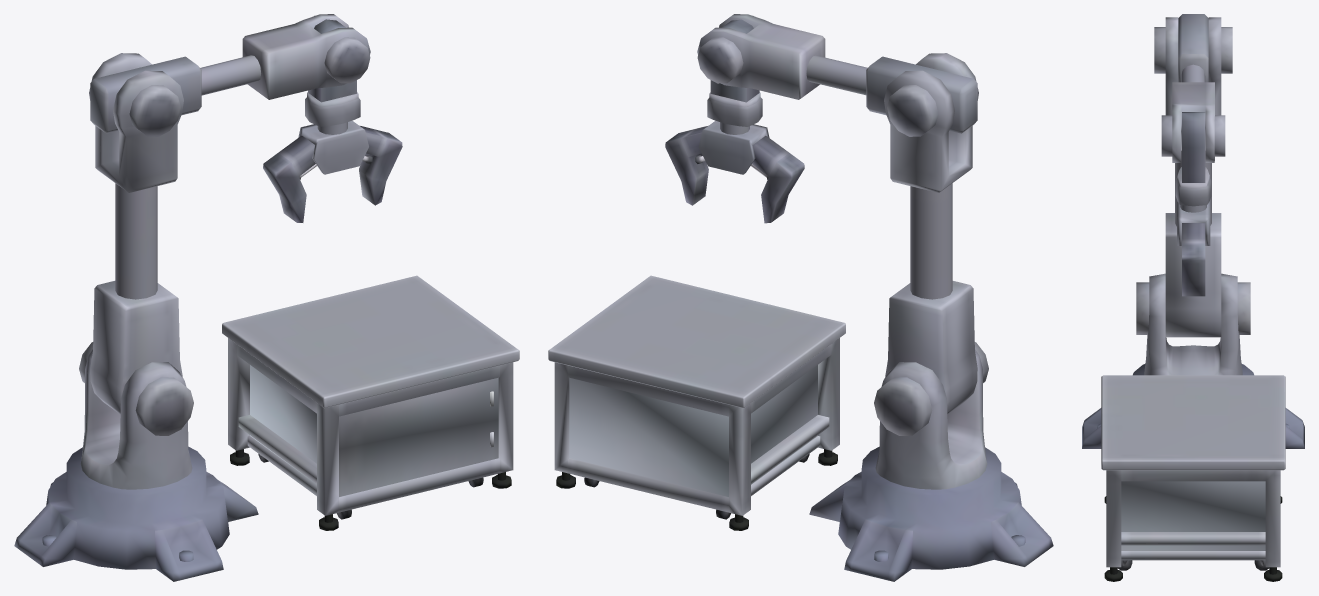
3 views of the same model, side by side, from view 1: azimuth 30°, elevation 25°; view 2: azimuth 150°, elevation 25°; view 3: azimuth 270°, elevation 25° (orthographic). The views are drawn at different scales.
Size of the model in its own units: 17.82 by 18.01 by 8.72.
Materials: 1 (1 with a texture image).
